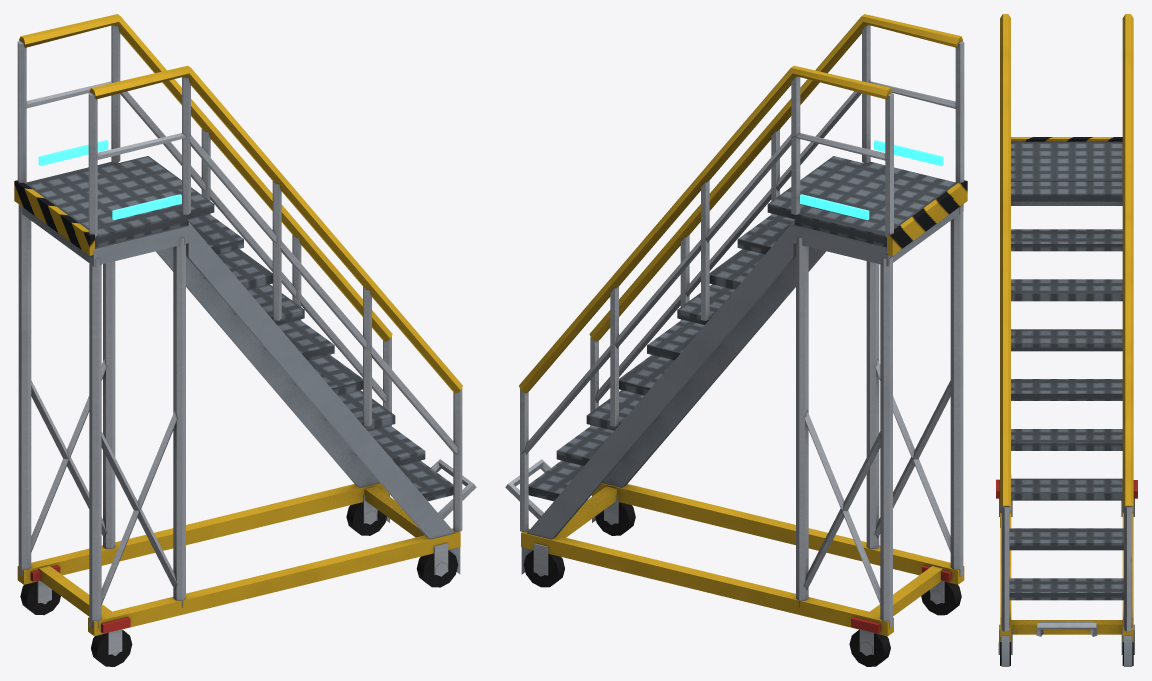
The model's file is escalera_nave.fbx.
The picture shows the model from 3 angles, left to right: view 1: azimuth 30°, elevation 25°; view 2: azimuth 150°, elevation 25°; view 3: azimuth 270°, elevation 25°; orthographic projection. The views are drawn at different scales.
Parts seen in each view (by area): view 1: escalera_nave, escalera_nave_neon; view 2: escalera_nave, escalera_nave_neon; view 3: escalera_nave.
Boxes of the visible parts, left/top/right/bottom form: escalera_nave: left=14, top=14, right=476, bottom=666; escalera_nave_neon: left=38, top=140, right=181, bottom=220; escalera_nave: left=505, top=14, right=967, bottom=666; escalera_nave_neon: left=800, top=140, right=943, bottom=220; escalera_nave: left=996, top=14, right=1137, bottom=666.
Size of the model in its own units: 3 by 4.09 by 1.04.
Materials: 2 (2 with a texture image).
